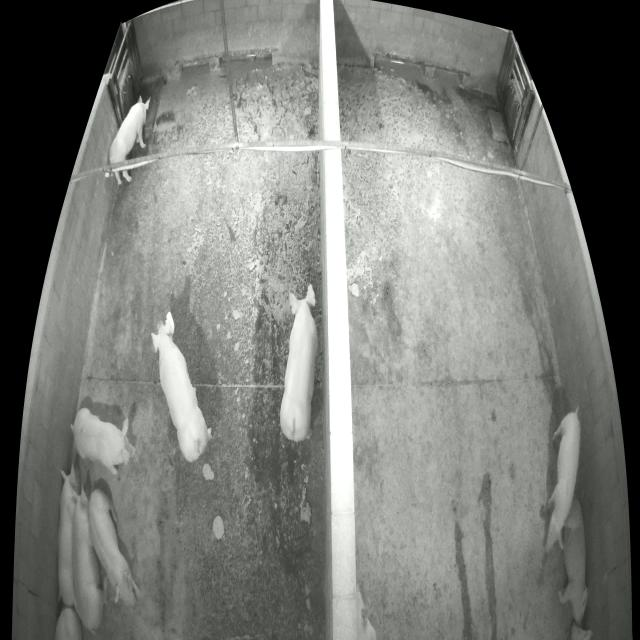pig: (151, 311, 212, 462), (88, 489, 140, 612), (280, 284, 318, 440), (72, 485, 107, 632), (545, 406, 580, 553), (72, 407, 136, 476), (557, 497, 588, 623), (110, 96, 150, 185), (58, 464, 79, 606), (356, 583, 376, 638), (56, 606, 82, 639)
